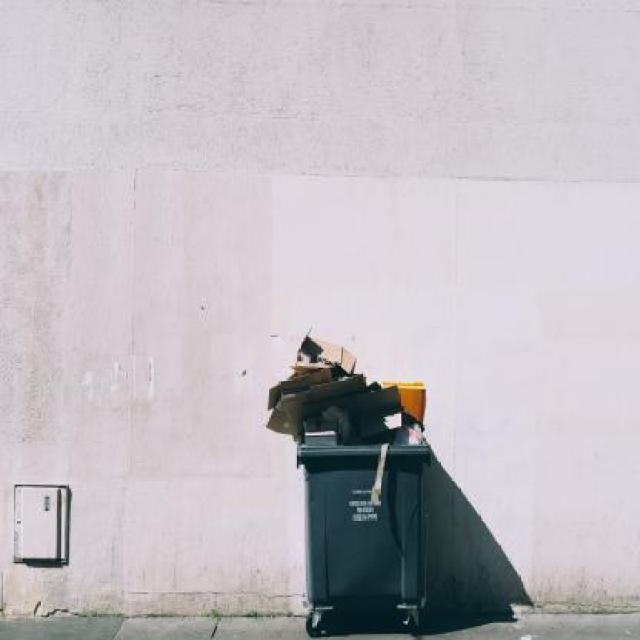garbage container: (285, 441, 440, 640)
